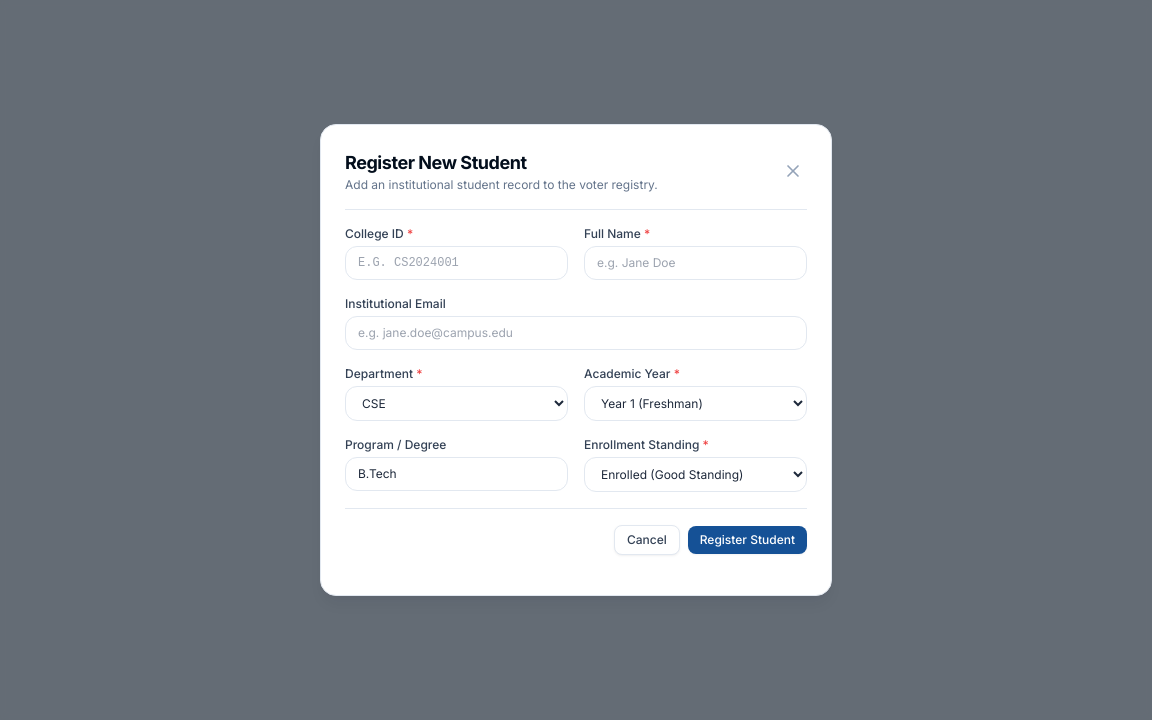
Scenario: Student Form Modal Component › validates required fields on empty submit
Click the button "Register Student".
click(747, 540)  # box x1=688 y1=526 x2=807 y2=554
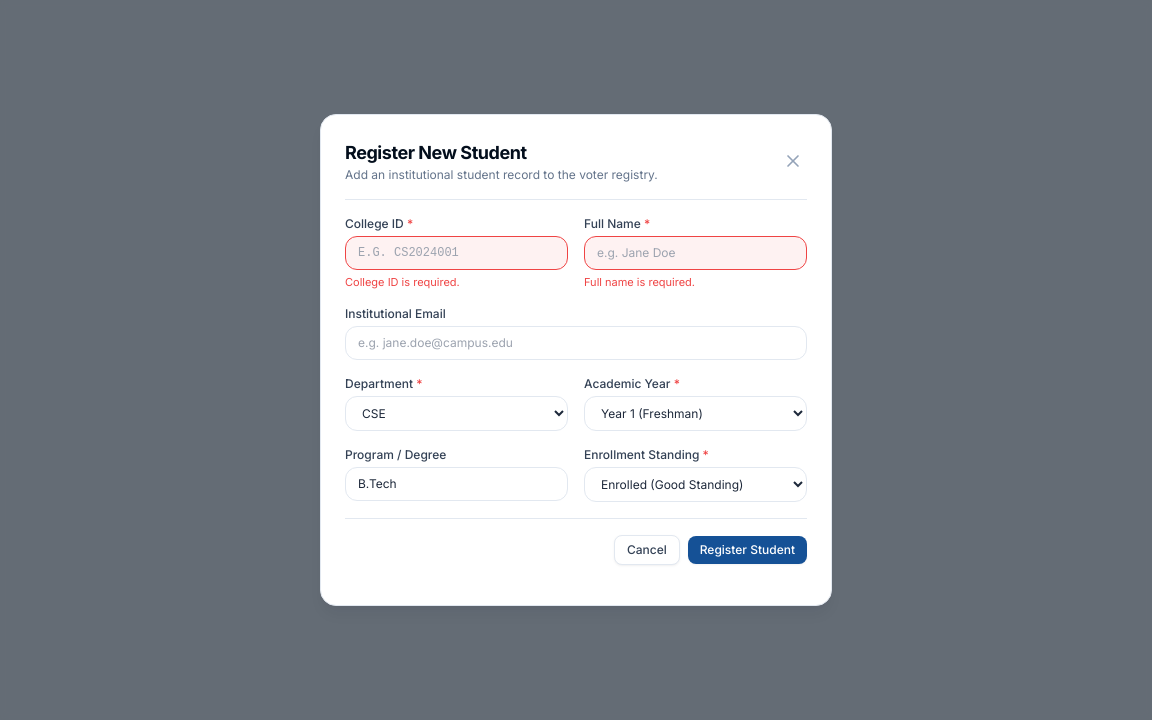
Check: the text "College ID is required." is shown, box x1=345 y1=275 x2=460 y2=289
Check: the text "Full name is required." is shown, box x1=584 y1=275 x2=695 y2=289
